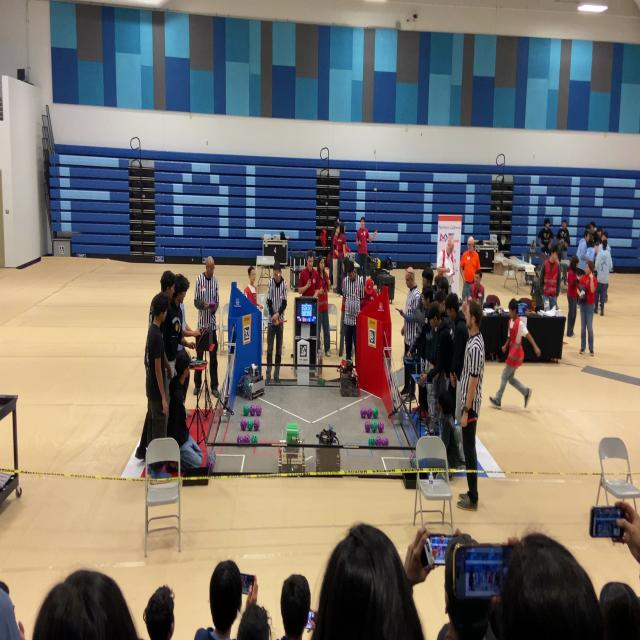artifact_green: (410, 455, 418, 469), (240, 418, 247, 431), (372, 407, 379, 419), (378, 420, 384, 433), (243, 404, 249, 416), (371, 421, 377, 433), (237, 433, 244, 443), (254, 418, 259, 431), (243, 434, 250, 443), (251, 433, 257, 443), (248, 419, 253, 431), (369, 436, 375, 446), (376, 436, 382, 446), (367, 408, 372, 419), (361, 408, 366, 418)
artifact_purple: (207, 452, 216, 471), (410, 454, 416, 468), (249, 404, 255, 416), (241, 419, 247, 431), (378, 421, 384, 433), (243, 433, 250, 443), (237, 434, 244, 443), (254, 419, 259, 431), (360, 408, 366, 418), (376, 436, 382, 446), (256, 405, 261, 416), (365, 421, 370, 432), (251, 434, 257, 443), (382, 437, 388, 446), (373, 408, 378, 418), (367, 408, 372, 418), (410, 453, 415, 461)
